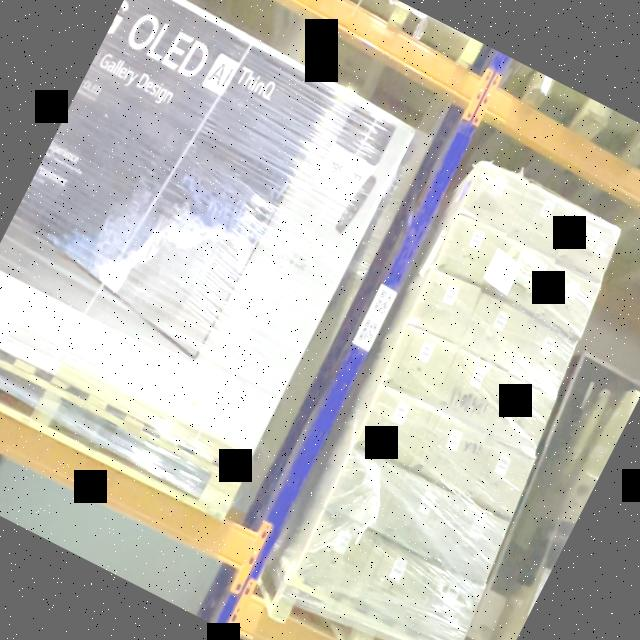box: (292, 508, 384, 600), (358, 546, 435, 628), (326, 450, 404, 528), (385, 477, 459, 558), (438, 501, 512, 581), (356, 387, 429, 463), (382, 328, 456, 402), (434, 355, 506, 428), (411, 270, 481, 342), (462, 296, 532, 368), (464, 441, 534, 513), (489, 380, 557, 451), (412, 574, 484, 640), (409, 418, 476, 487), (461, 165, 528, 232), (486, 239, 552, 307), (437, 218, 502, 284), (514, 323, 578, 389), (557, 212, 622, 276), (534, 270, 599, 334), (510, 188, 574, 252)
